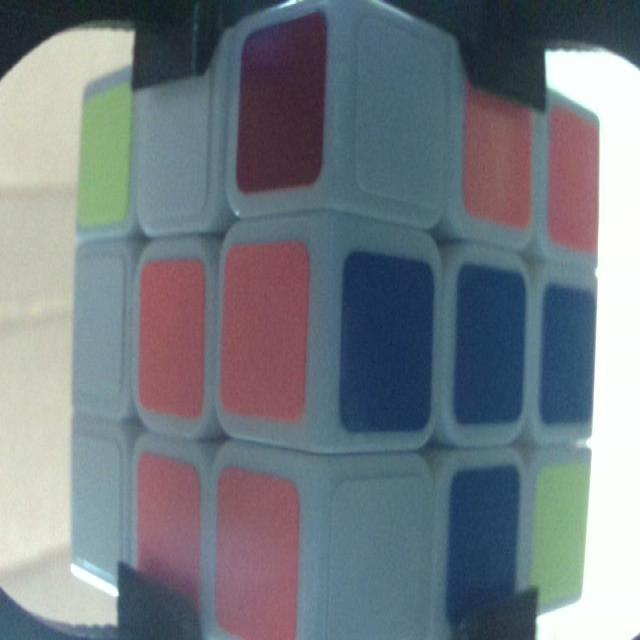b: (346, 260, 430, 424), (451, 471, 518, 616), (463, 271, 527, 418), (546, 292, 591, 423)
o: (224, 247, 303, 412), (216, 468, 294, 633), (466, 73, 534, 220), (141, 257, 201, 413), (142, 458, 200, 614), (550, 111, 596, 244)
r: (243, 34, 320, 182)
w: (358, 23, 445, 205), (334, 492, 417, 640), (144, 69, 205, 204), (73, 435, 120, 565), (74, 268, 118, 393)
y: (538, 467, 584, 601), (77, 92, 123, 208)
